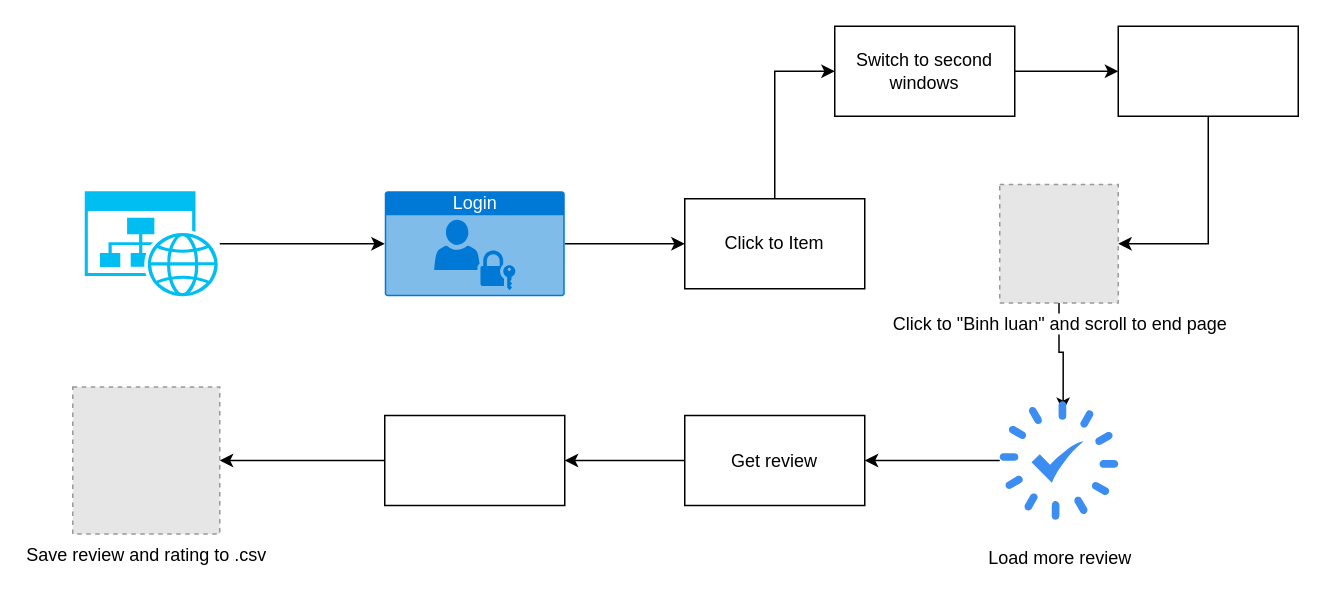
Image size: 1325x608. Some labels were removed from this diagram. Grey dashed boxes stand in for pictures. The centre of each missing label's shape, as x and y in pixels:
"Get number of review" belongs at pixel 1207 70.
"Get rating and covert to 5 point" belongs at pixel 474 460.
"Load Foody web" belongs at pixel 151 243.
